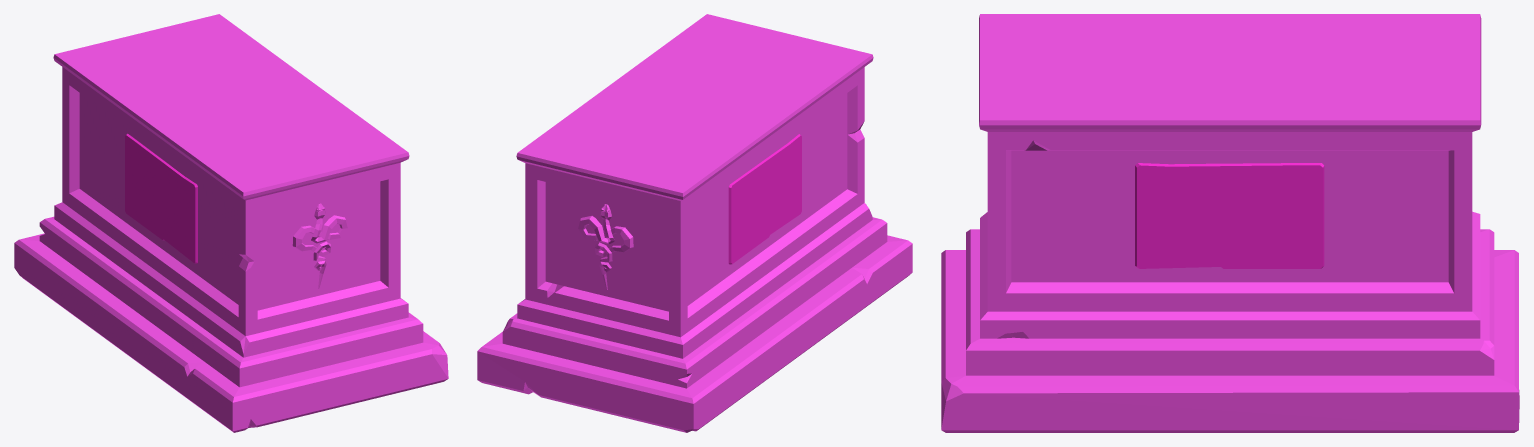
File: SM_Pedestal_Long_D_Fantasy.fbx
3 views of the same model, side by side, from view 1: azimuth 30°, elevation 25°; view 2: azimuth 150°, elevation 25°; view 3: azimuth 270°, elevation 25° (orthographic). The views are drawn at different scales.
Visible parts, largest first — view 1: SM_Pedestal_Long_D_Fantasy; view 2: SM_Pedestal_Long_D_Fantasy; view 3: SM_Pedestal_Long_D_Fantasy.
Part boxes in pixels (box(x1,y1,x2,y2)): SM_Pedestal_Long_D_Fantasy: box(14, 14, 448, 432); SM_Pedestal_Long_D_Fantasy: box(477, 14, 912, 432); SM_Pedestal_Long_D_Fantasy: box(941, 14, 1519, 432).
Bounding box in the file's own units: 2.05 × 2.04 × 3.59.
